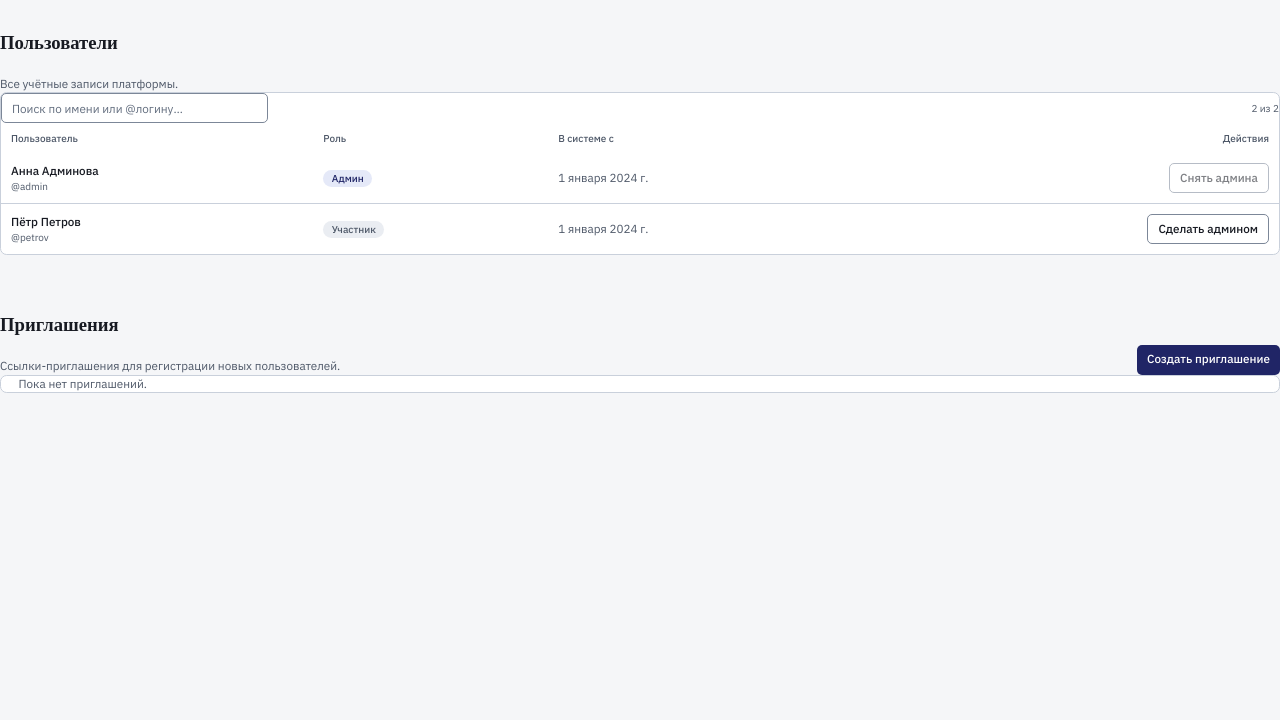
Test case: UsersPage › creates an invitation token and shows the returned token
Click the button "Создать приглашение": (1208, 360) x1=1137 y1=345 x2=1279 y2=375
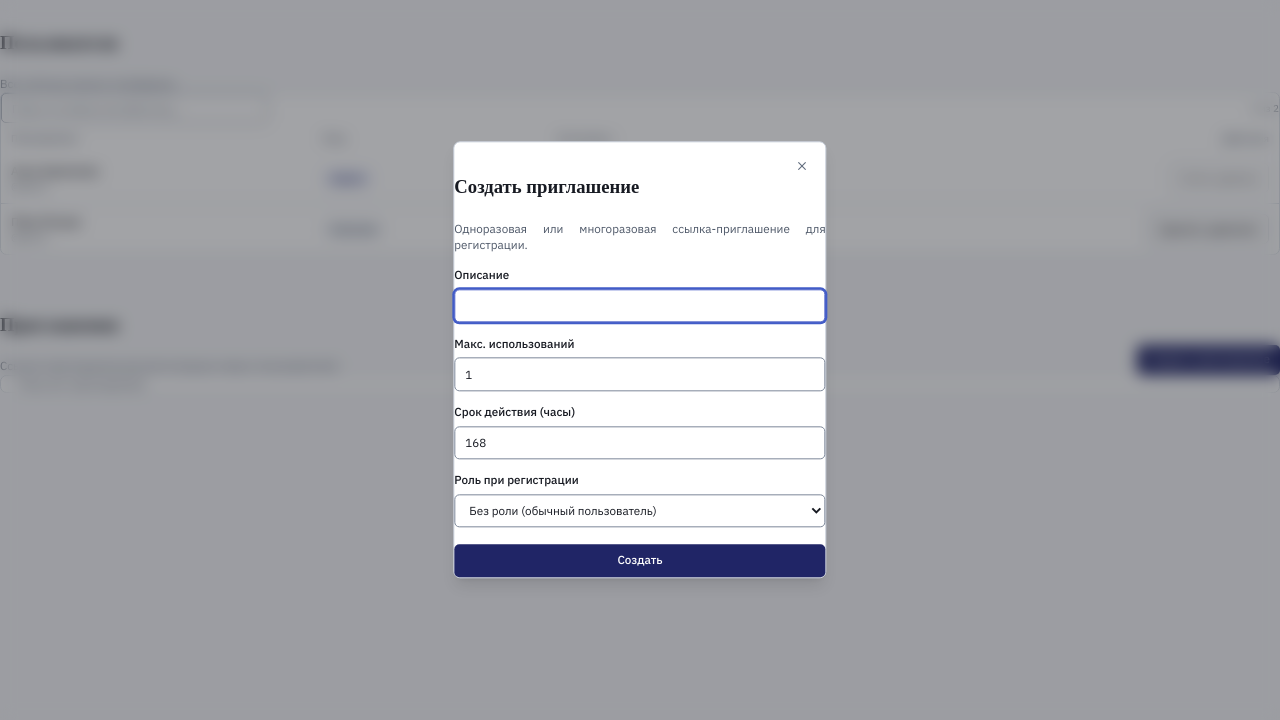
In the field labelled "Описание": (640, 306) x1=454 y1=289 x2=826 y2=323, type "Для 11 класса"
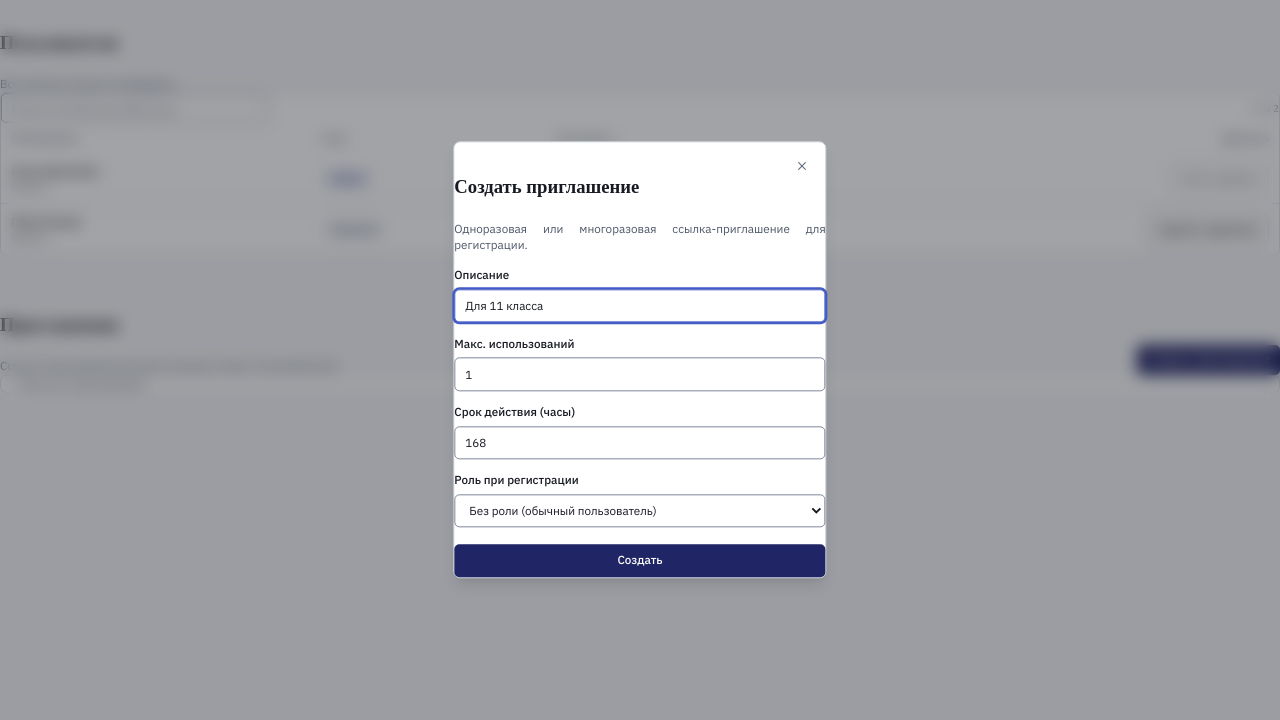
Click the button "Создать": (640, 561) x1=454 y1=544 x2=826 y2=578
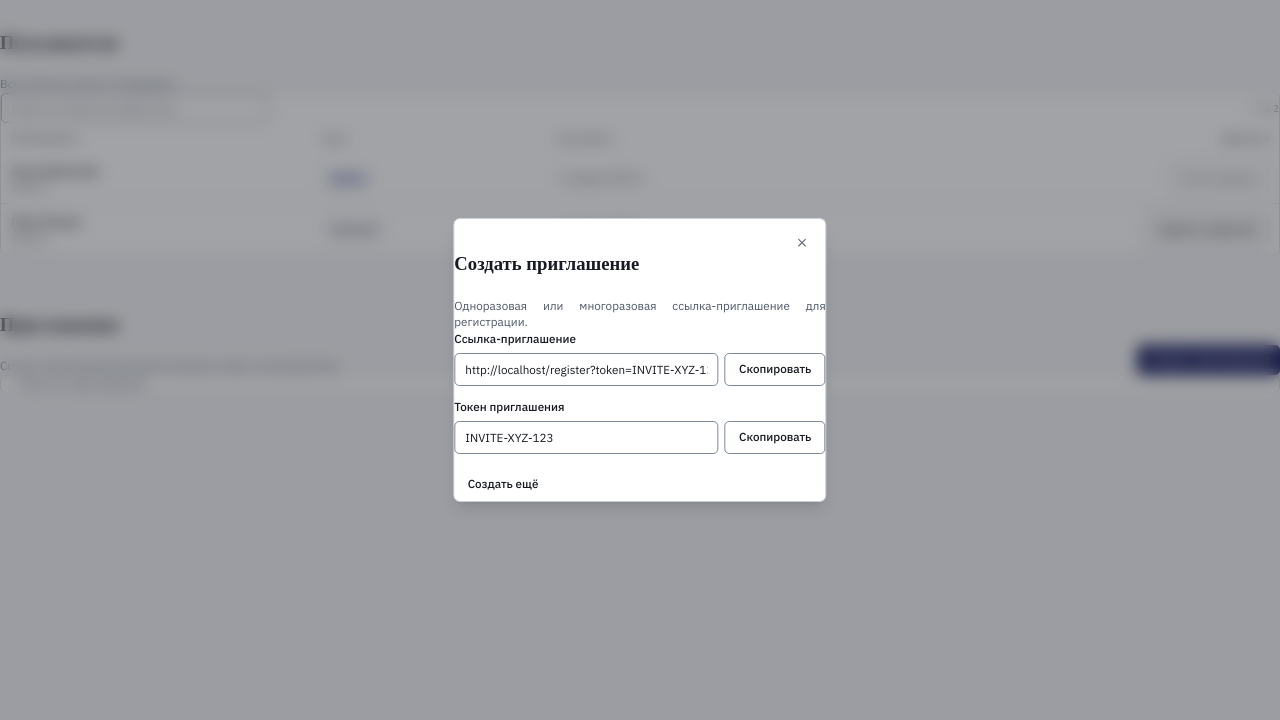
Expected: the field labelled "Токен приглашения" holds "INVITE-XYZ-123", x1=454 y1=421 x2=718 y2=454
